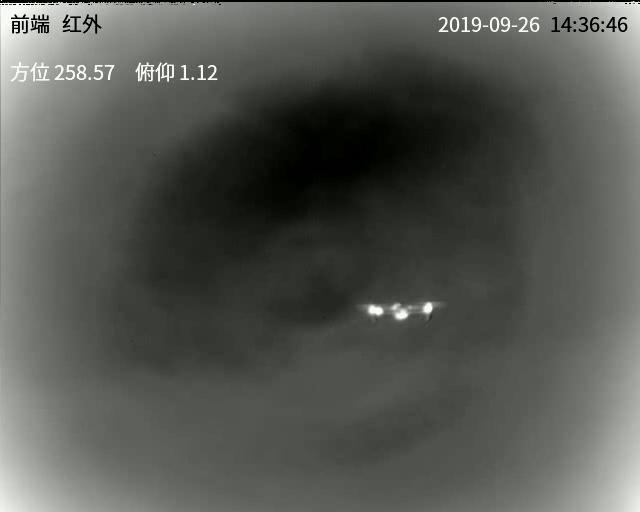DRONE: (366, 300, 434, 325)
